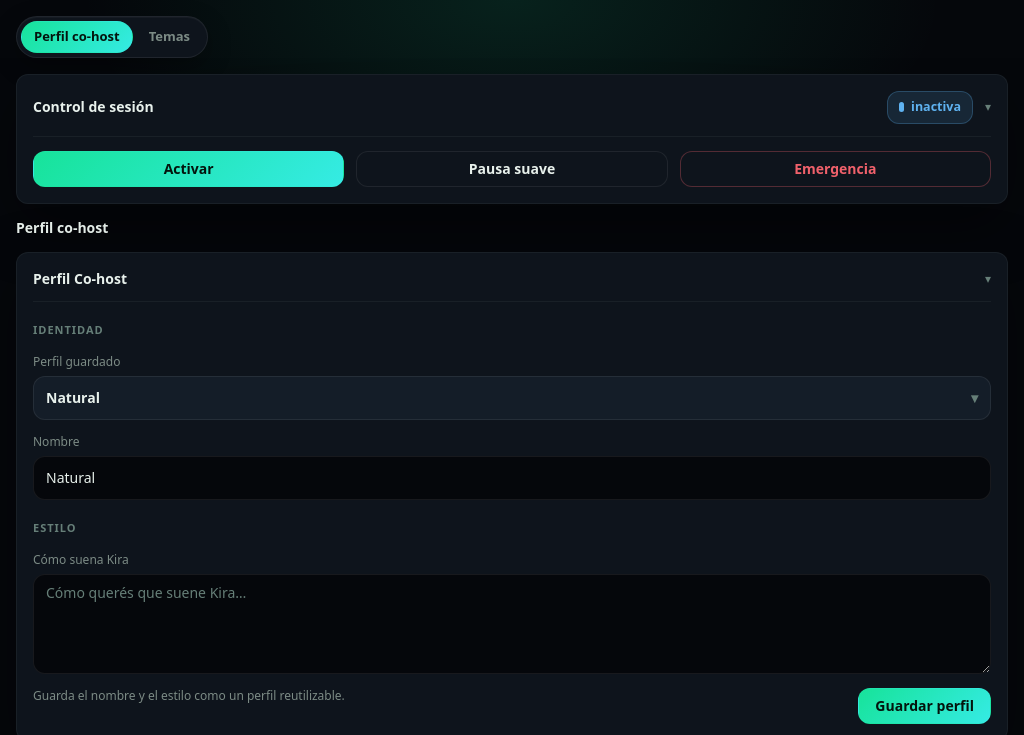
Scenario: locale flip — one tripwire per domain › agenda: re-translates the empty-queue message
The width and height of the screenshot is (1024, 735).
Click the button "Temas" at (169, 37), box 136,21 -> 203,53
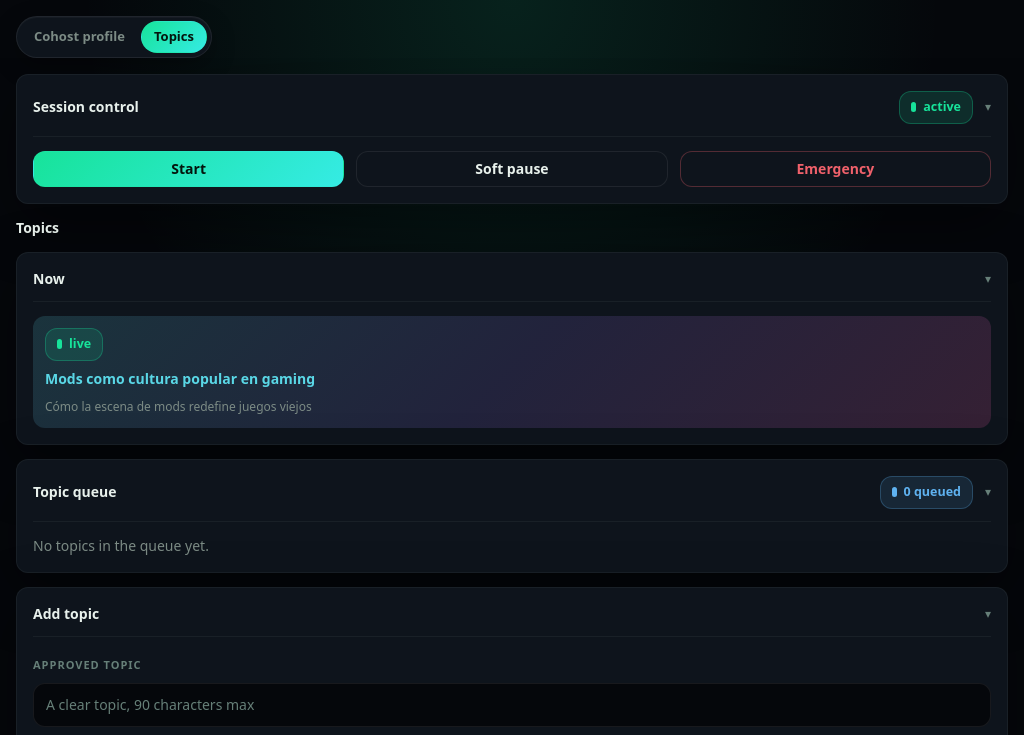
Result: the text "No topics in the queue yet." is shown at 33,536 -> 209,555
